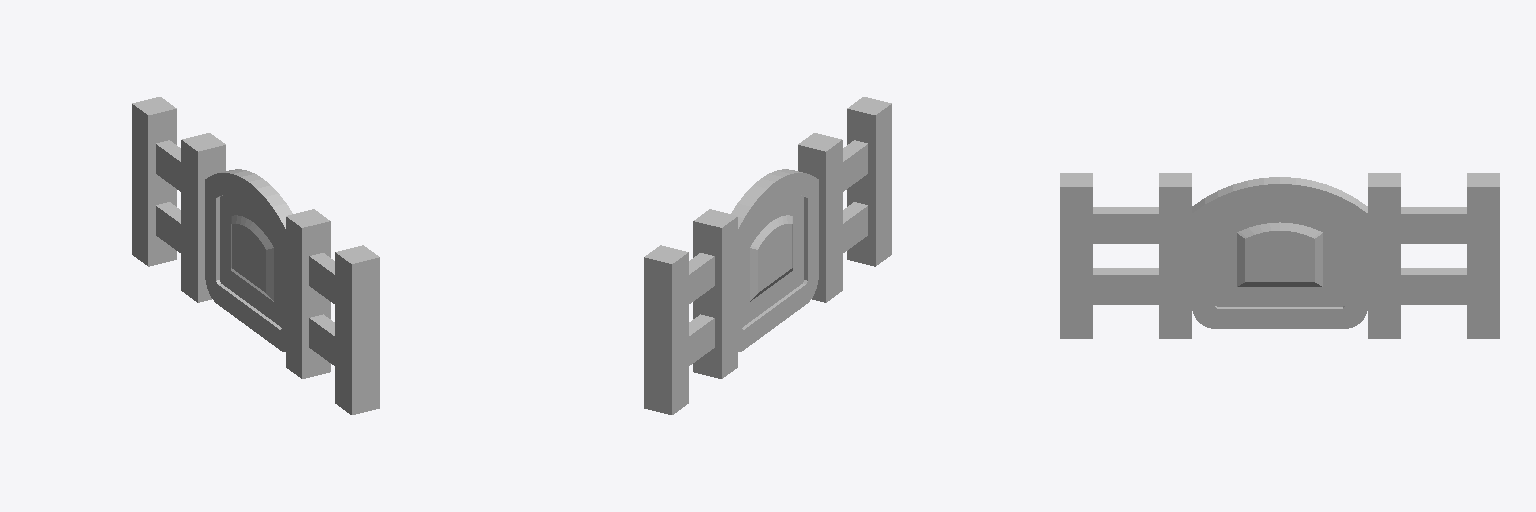
The model's file is fence-gate.obj.
3 views of the same model, side by side, from view 1: azimuth 30°, elevation 25°; view 2: azimuth 150°, elevation 25°; view 3: azimuth 270°, elevation 25° (orthographic).
Visible parts, largest first — view 1: fence-gate, gate; view 2: fence-gate, gate; view 3: fence-gate, gate.
Boxes of the visible parts, box(x1,y1,x2,y2) form: fence-gate: box(132, 97, 379, 414); gate: box(205, 169, 292, 351); fence-gate: box(644, 97, 891, 414); gate: box(731, 169, 818, 351); fence-gate: box(1060, 173, 1499, 338); gate: box(1192, 177, 1367, 328).
Size of the model in its own units: 0.075 by 0.38 by 1.